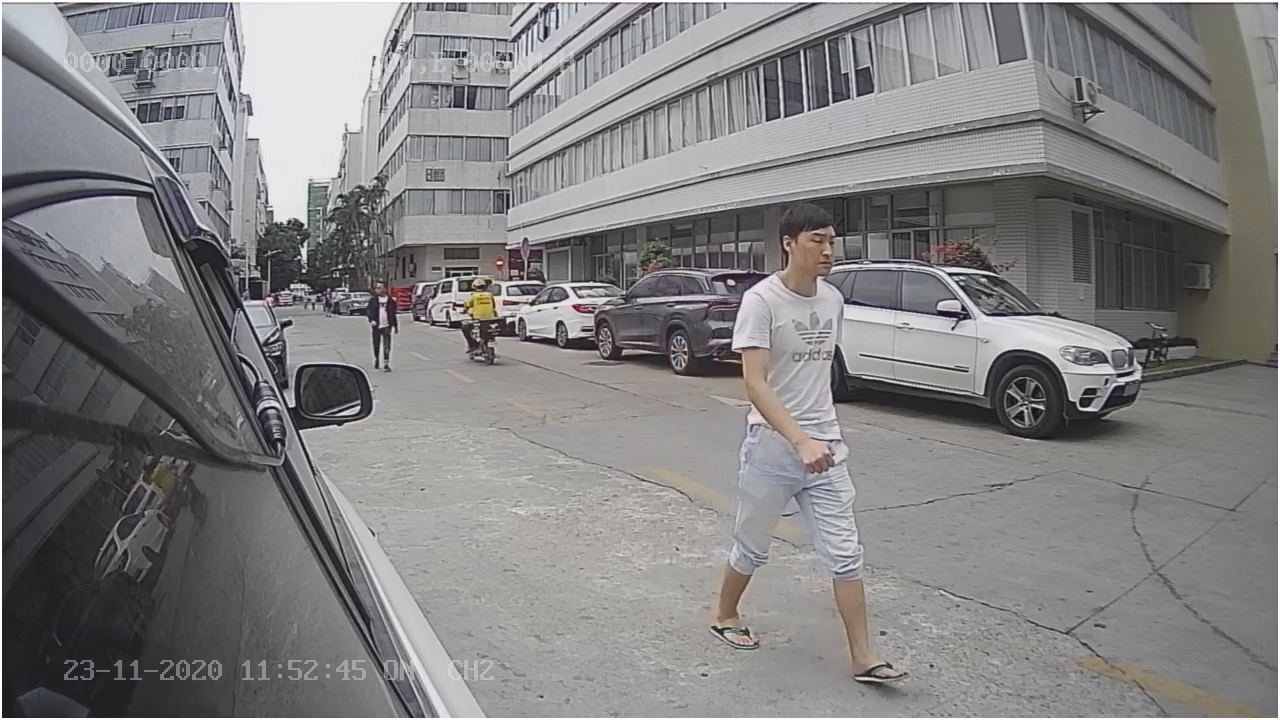person: (723, 216, 891, 677)
